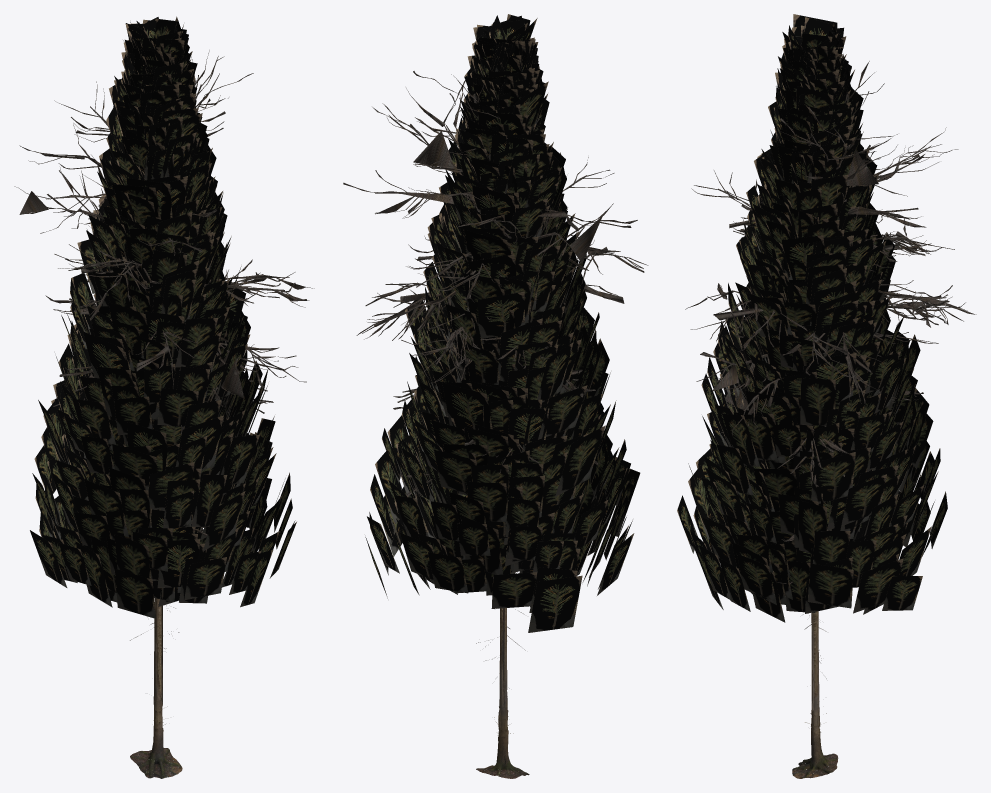
File: pine.glb
3 renders of one model, left to right at view 1: azimuth 30°, elevation 25°; view 2: azimuth 150°, elevation 25°; view 3: azimuth 270°, elevation 25°, orthographic.
Parts seen in each view (by area): view 1: near_needles, mid_needles, mid_wood, near_wood; view 2: near_needles, mid_needles, mid_wood, near_wood; view 3: near_needles, mid_needles, mid_wood, near_wood.
Part boxes in pixels (x1,y1,x2,y2): near_needles: (30, 16, 296, 607); mid_needles: (43, 17, 295, 618); mid_wood: (14, 40, 314, 753); near_wood: (20, 61, 306, 778); near_needles: (367, 15, 640, 612); mid_needles: (365, 14, 630, 632); mid_wood: (343, 71, 648, 765); near_wood: (354, 81, 645, 778); near_needles: (677, 14, 947, 614); mid_needles: (686, 21, 946, 622); mid_wood: (685, 61, 973, 751); near_wood: (697, 73, 974, 778).
Bounding box in the file's own units: 7.01 × 20.98 × 7.63.
Materials: 4 (4 with a texture image).
